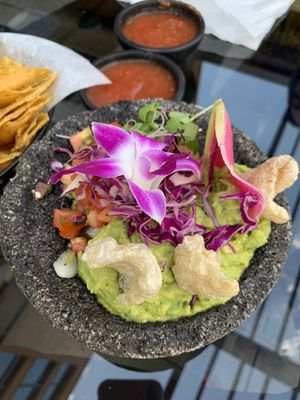sushi: (114, 0, 205, 64)
